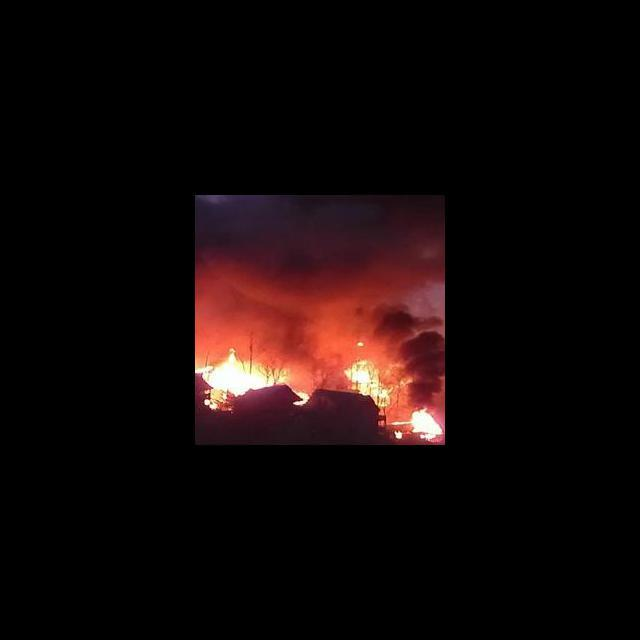Fire: (198, 346, 290, 410), (346, 354, 392, 405), (391, 398, 443, 442), (290, 388, 312, 409)
Smoke: (393, 315, 445, 393)
